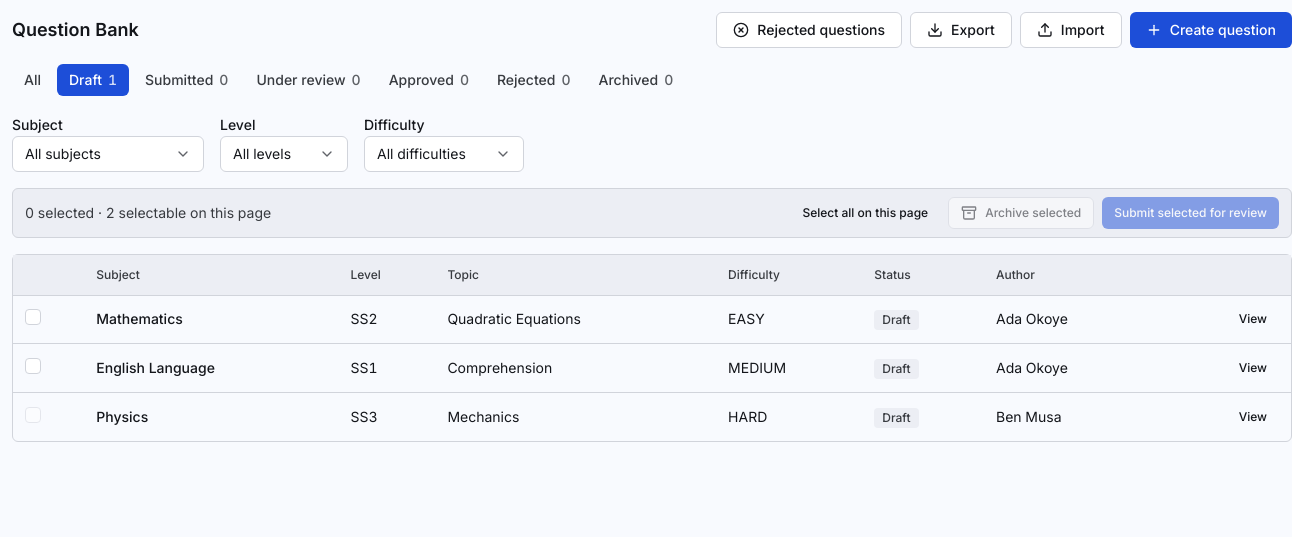
QuestionBankScreen › F9 bulk submit: partial failures are reported without blocking the batch
Click the button "Select all on this page".
click(865, 213)  # box left=790, top=197, right=940, bottom=229
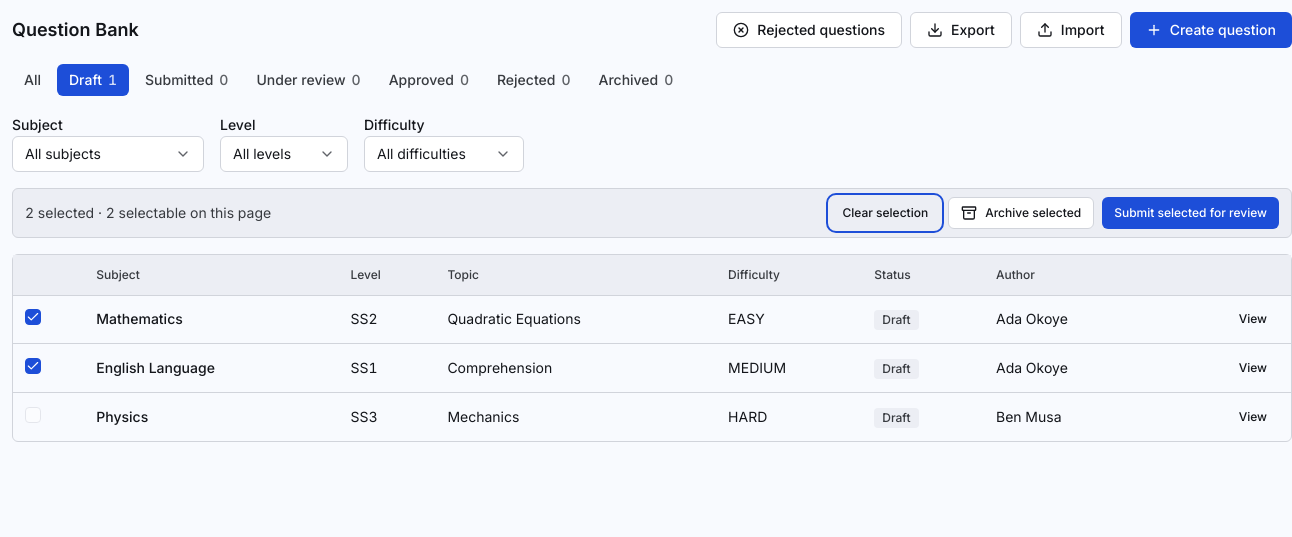
Click the button "Submit selected for review".
click(1191, 213)  # box left=1102, top=197, right=1279, bottom=229
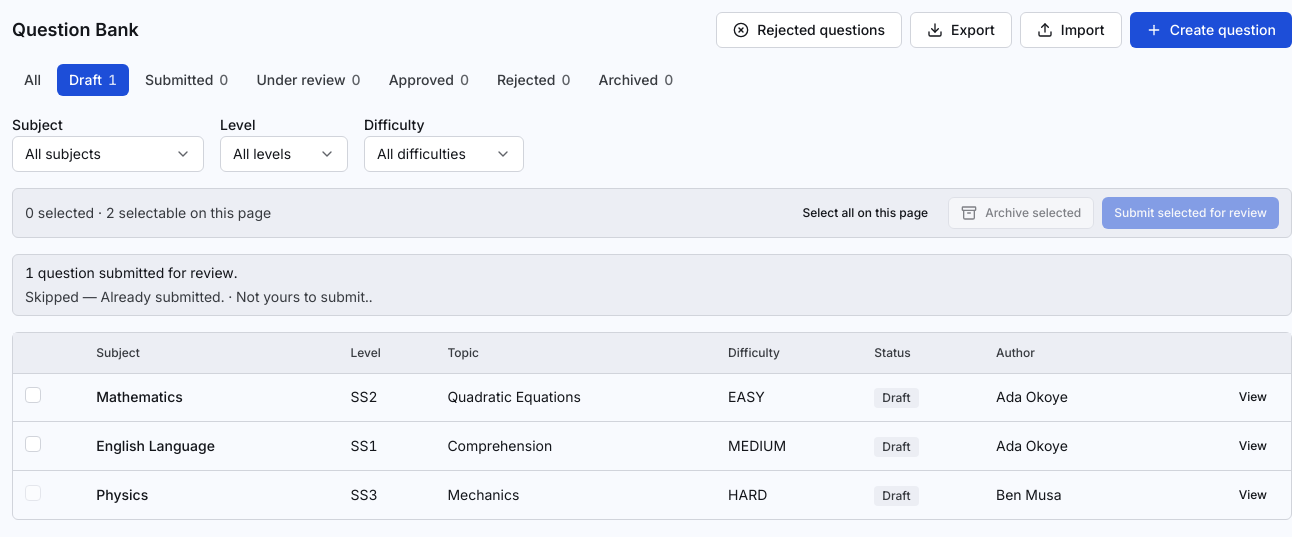
Now the text "1 question submitted for review." is shown, box left=25, top=264, right=238, bottom=281
Now the text "Skipped — Already submitted. · Not yours to submit.." is shown, box left=25, top=288, right=372, bottom=305
